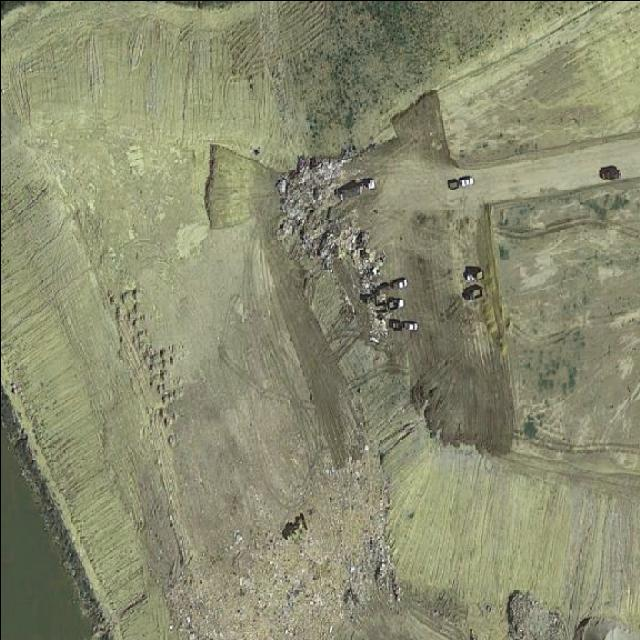dump_site: (154, 421, 424, 640), (270, 131, 411, 383)
